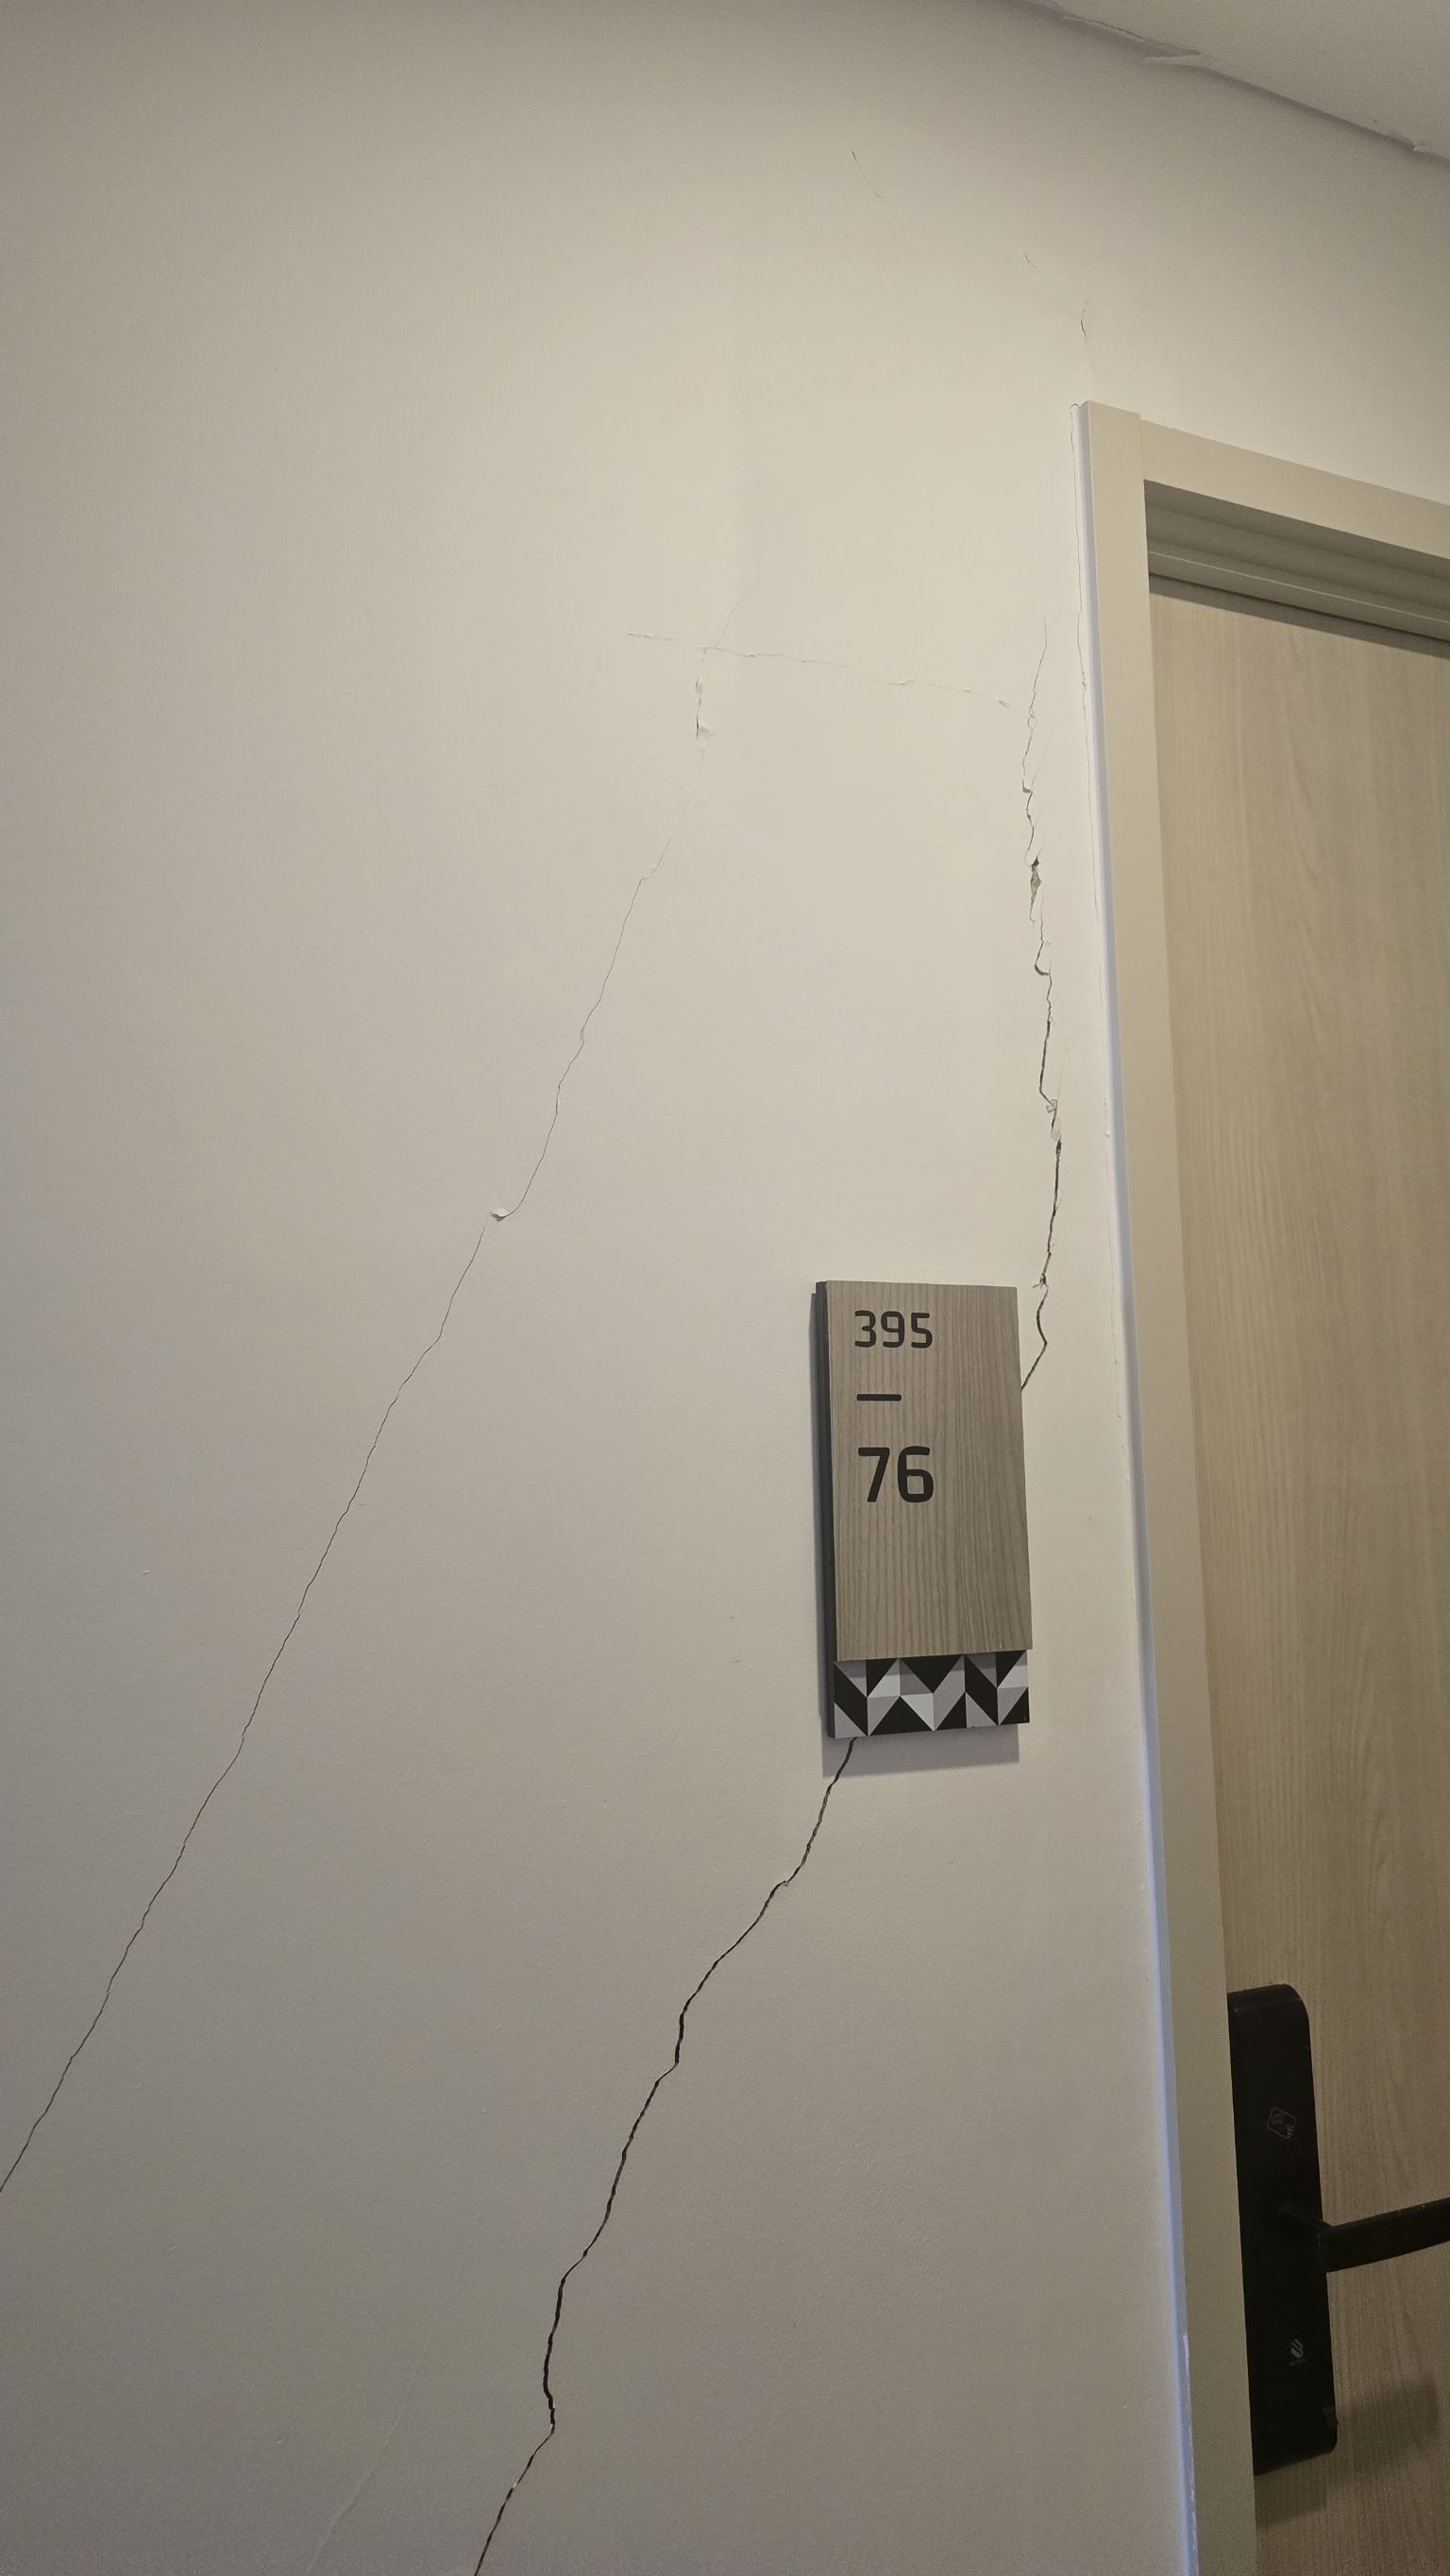Low: (318, 591, 1110, 2569)
